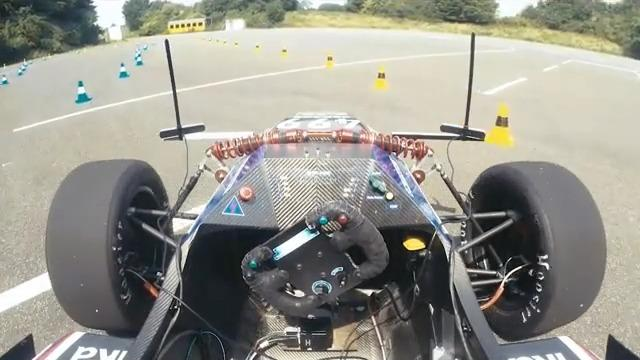blue_cone: (70, 79, 94, 107), (117, 62, 132, 79), (135, 53, 143, 67), (1, 74, 9, 87), (17, 68, 24, 79), (135, 50, 140, 60)
yellow_cone: (485, 97, 518, 151), (373, 66, 388, 91), (324, 52, 335, 70), (279, 46, 290, 59), (254, 43, 262, 53)
